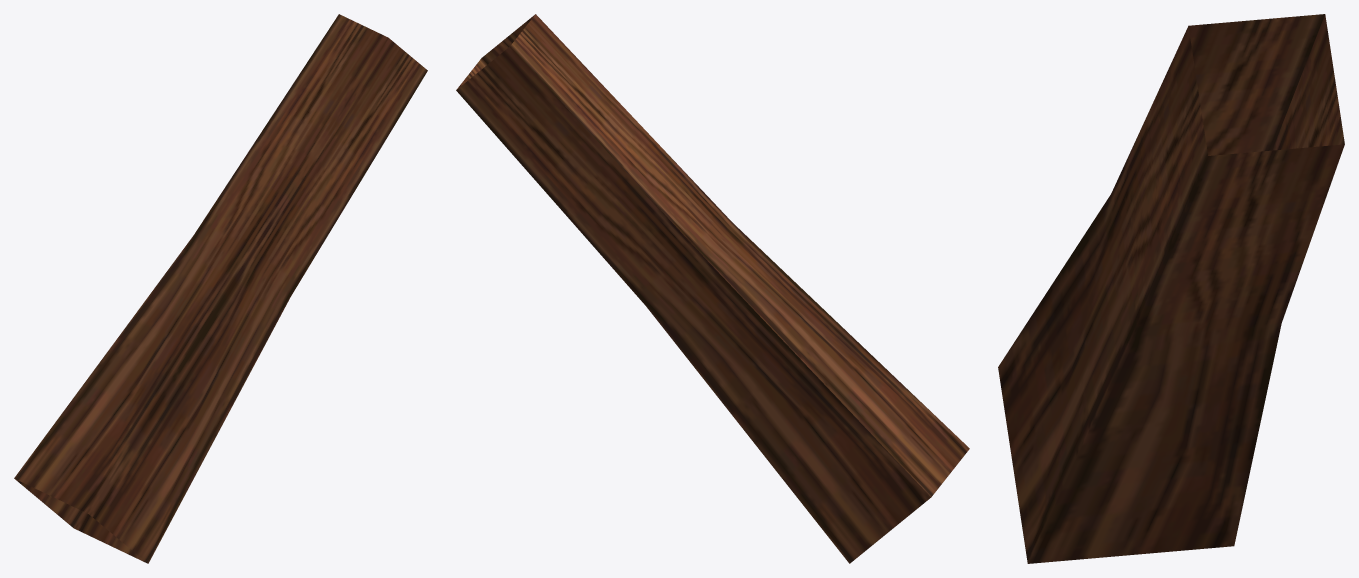
The model's file is OVERHILL_A_01_POST23.fbx.
3 renders of one model, left to right at view 1: azimuth 30°, elevation 25°; view 2: azimuth 150°, elevation 25°; view 3: azimuth 270°, elevation 25°, orthographic. The views are drawn at different scales.
Visible parts, largest first — view 1: OVERHILL_A_01_POST23; view 2: OVERHILL_A_01_POST23; view 3: OVERHILL_A_01_POST23.
Boxes of the visible parts, left/top/right/bottom form: OVERHILL_A_01_POST23: left=14, top=14, right=427, bottom=563; OVERHILL_A_01_POST23: left=456, top=14, right=969, bottom=563; OVERHILL_A_01_POST23: left=998, top=14, right=1344, bottom=563.
Bounding box in the file's own units: 7143 × 7005 × 2765.
Materials: 1 (1 with a texture image).
